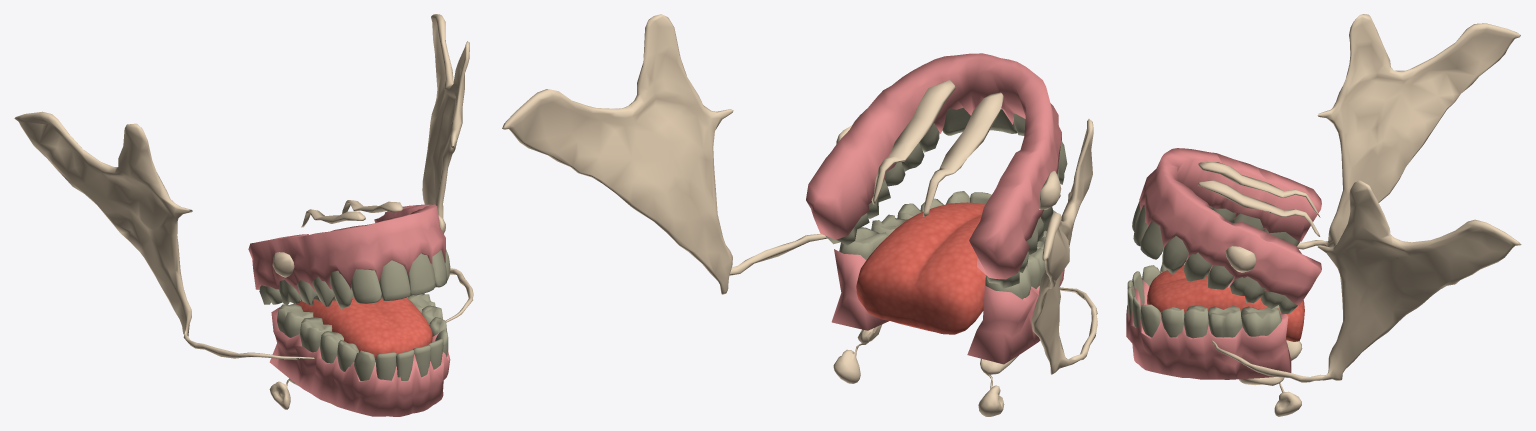
The model's file is mouth.glb.
3 views of the same model, side by side, from view 1: azimuth 30°, elevation 25°; view 2: azimuth 150°, elevation 25°; view 3: azimuth 270°, elevation 25° (orthographic). The views are drawn at different scales.
Visible parts, largest first — view 1: mouth, salicaryglands, tongue; view 2: salicaryglands, mouth, tongue; view 3: salicaryglands, mouth, tongue.
Boxes of the visible parts, x1,y1,x2,y2 form: mouth: [248, 204, 450, 416]; salicaryglands: [14, 14, 473, 409]; tongue: [296, 295, 432, 361]; salicaryglands: [502, 14, 1097, 416]; mouth: [806, 53, 1067, 364]; tongue: [856, 202, 985, 334]; salicaryglands: [1198, 14, 1521, 416]; mouth: [1126, 148, 1321, 379]; tongue: [1147, 264, 1304, 341].
Size of the model in its own units: 1.26 by 0.8151 by 1.
4 materials, 2 textured.
